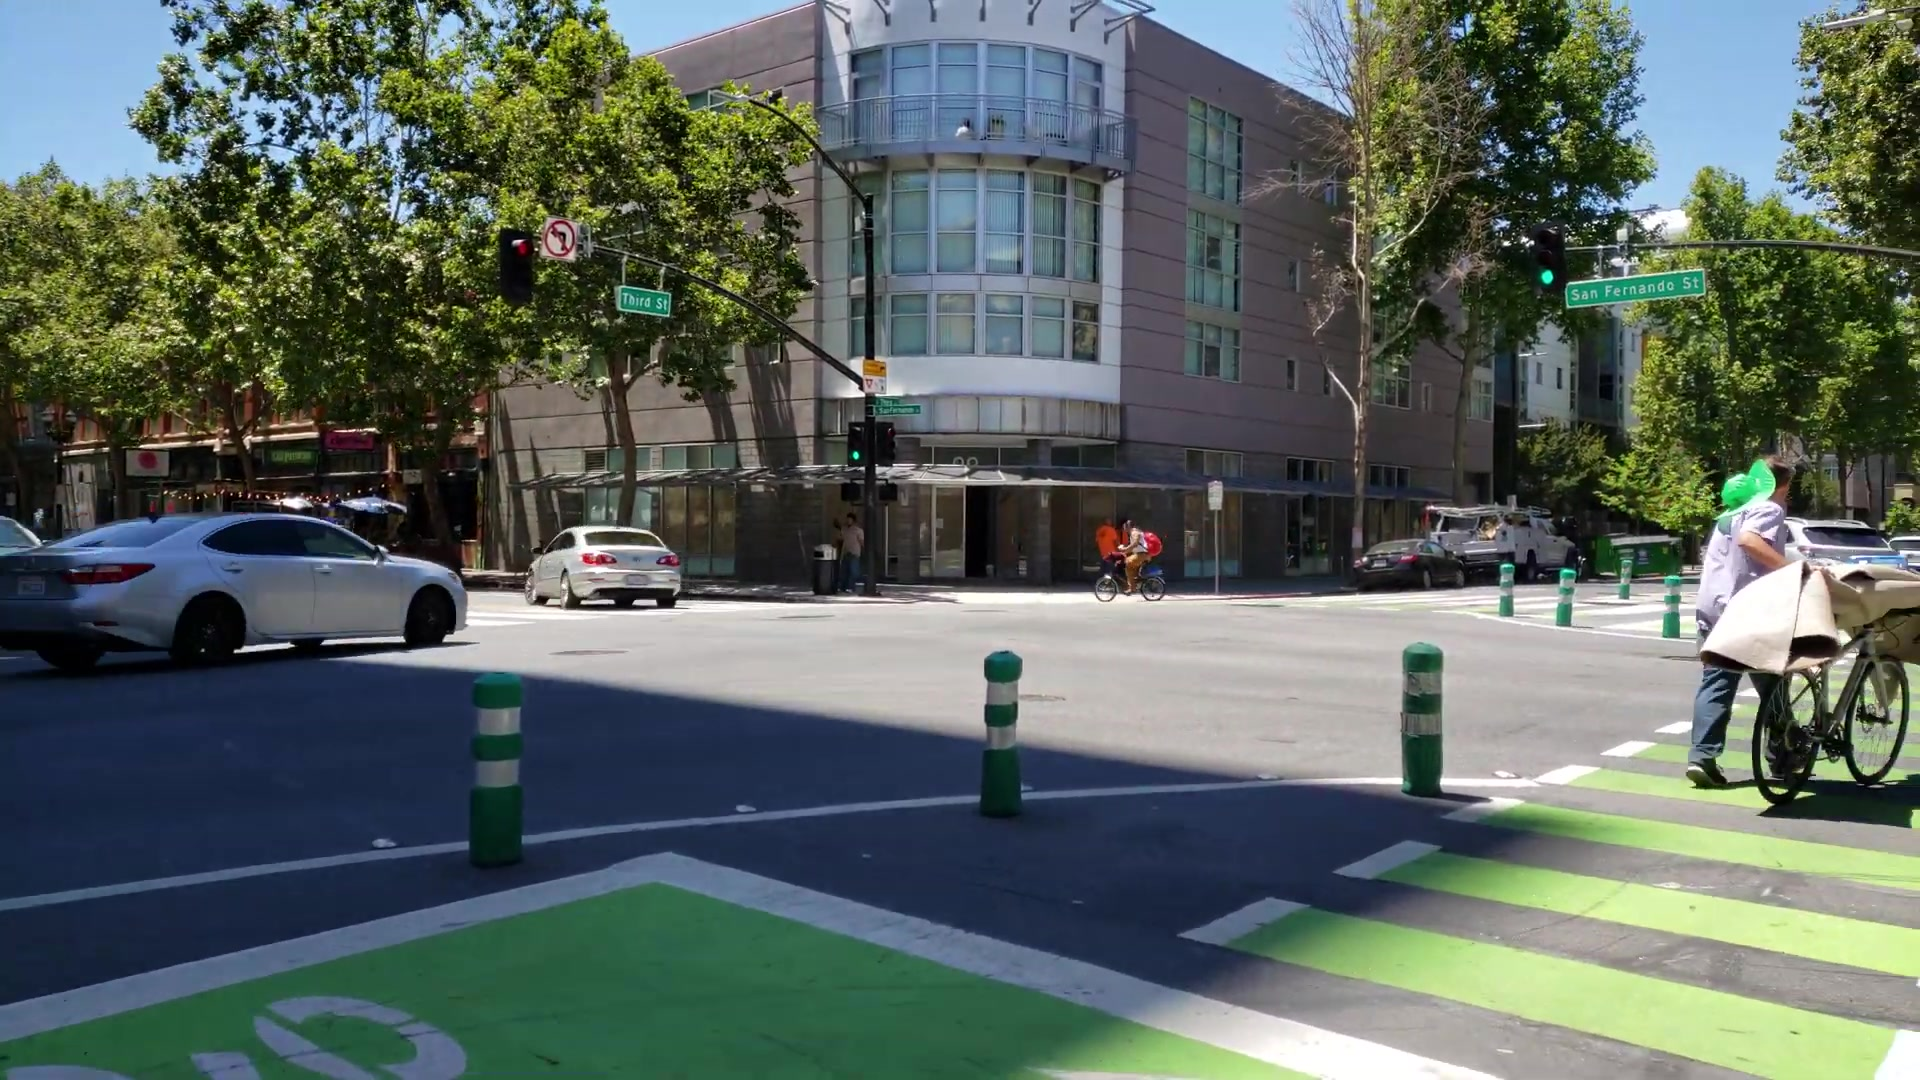vehicle_away: (1, 510, 469, 655), (524, 525, 680, 608), (1348, 537, 1464, 589)
